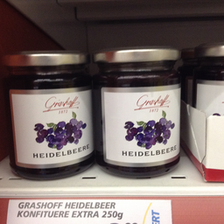jam: (90, 47, 185, 178), (2, 50, 95, 180)
